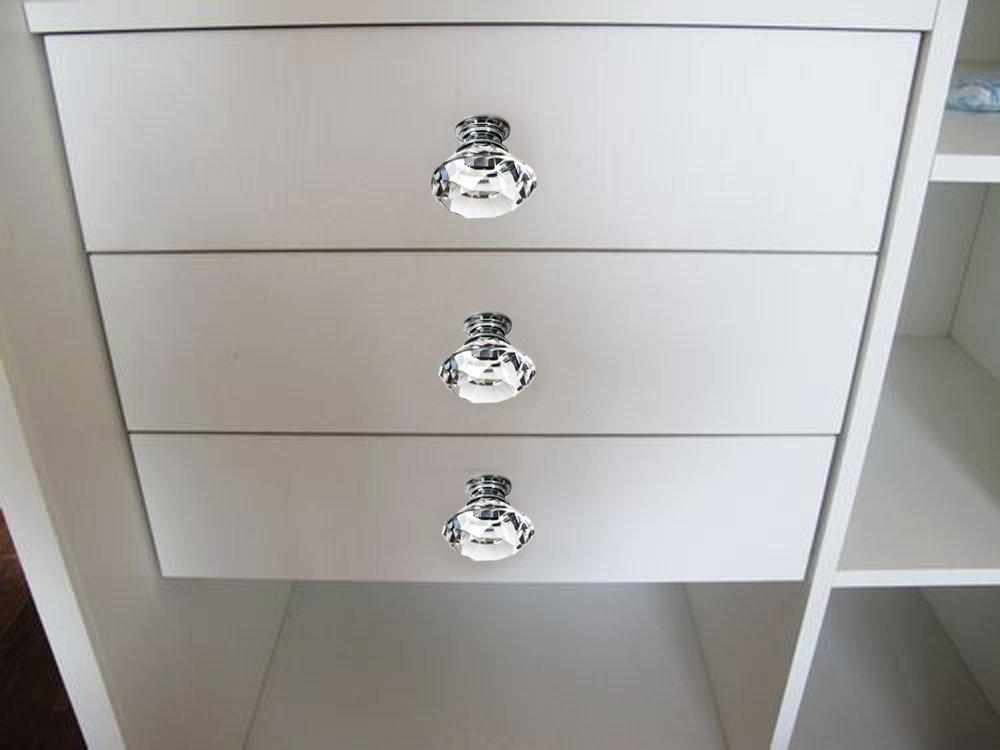cabinet_door: (62, 51, 893, 252), (96, 249, 845, 441), (129, 436, 819, 586)
handle: (416, 130, 550, 234), (427, 316, 543, 414), (434, 498, 538, 564)
